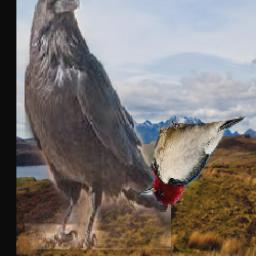Crow: (24, 0, 170, 249)
Woodpecker: (139, 116, 246, 204)
